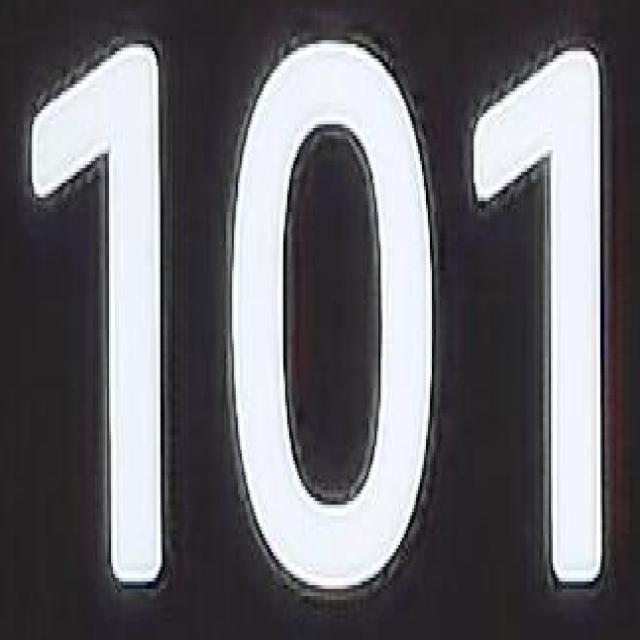character: (226, 32, 440, 606), (23, 30, 173, 598), (466, 44, 613, 594)
